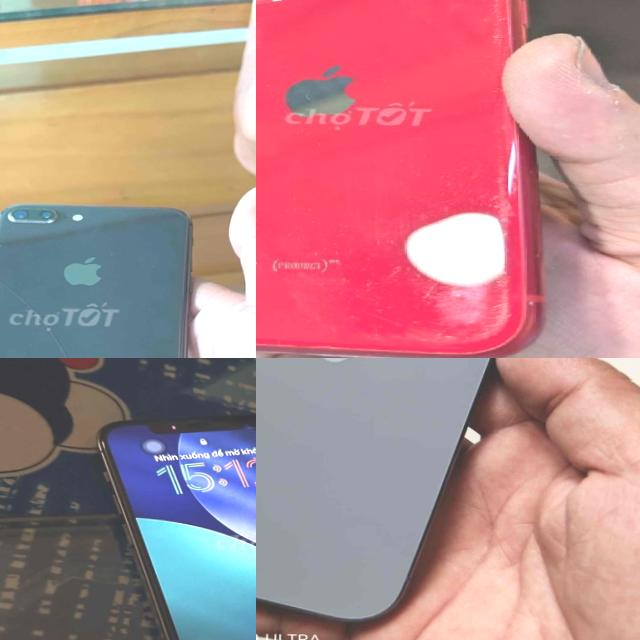gen_11: (256, 0, 554, 358)
gen_12_13: (256, 358, 575, 620), (74, 394, 256, 640)
gen_7_8: (0, 190, 191, 358)
physical_damage: (0, 255, 176, 358)
scratch: (358, 274, 486, 356), (482, 124, 520, 358), (419, 0, 527, 41), (278, 240, 358, 288), (0, 197, 62, 226)
